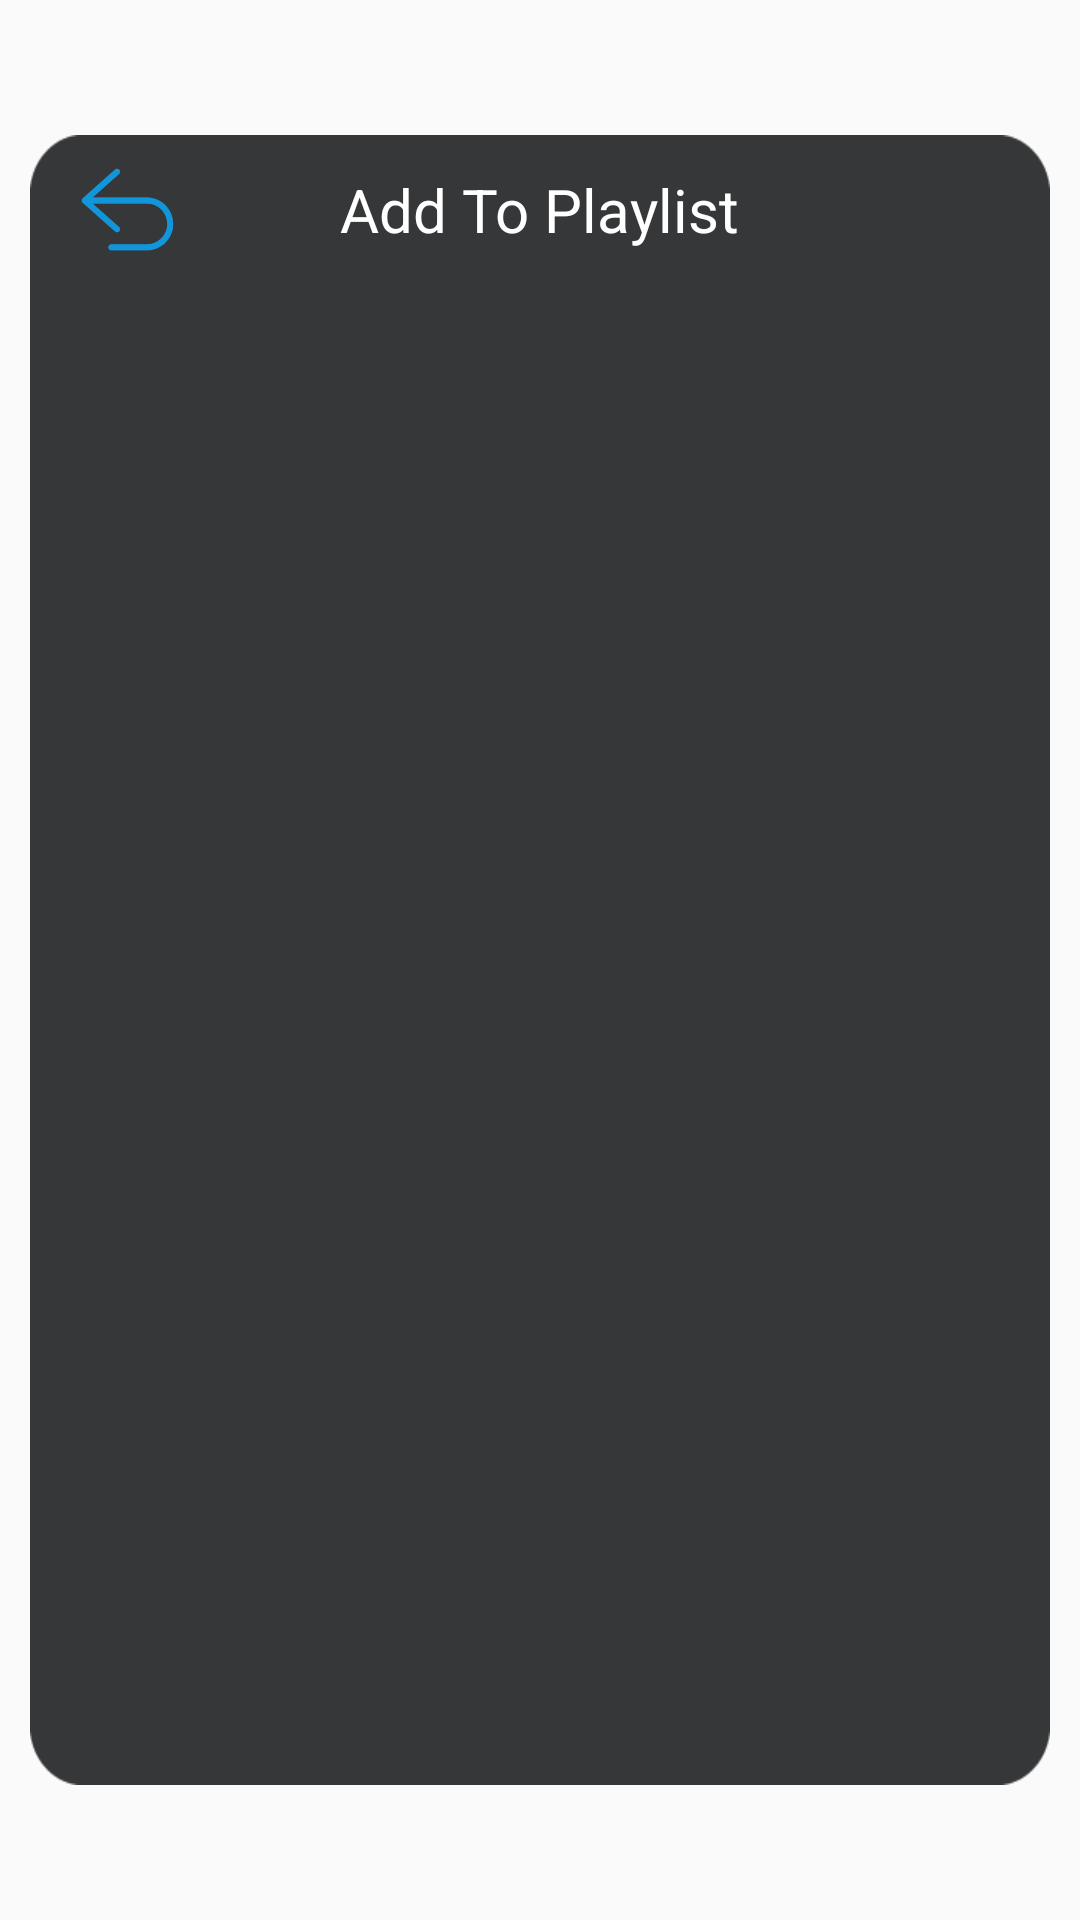

Icon bounding boxes for this 1080*1920 phone screenshot, format bbox=(x1, y1, x2, y2):
back pre: bbox=(81, 168, 173, 251)
